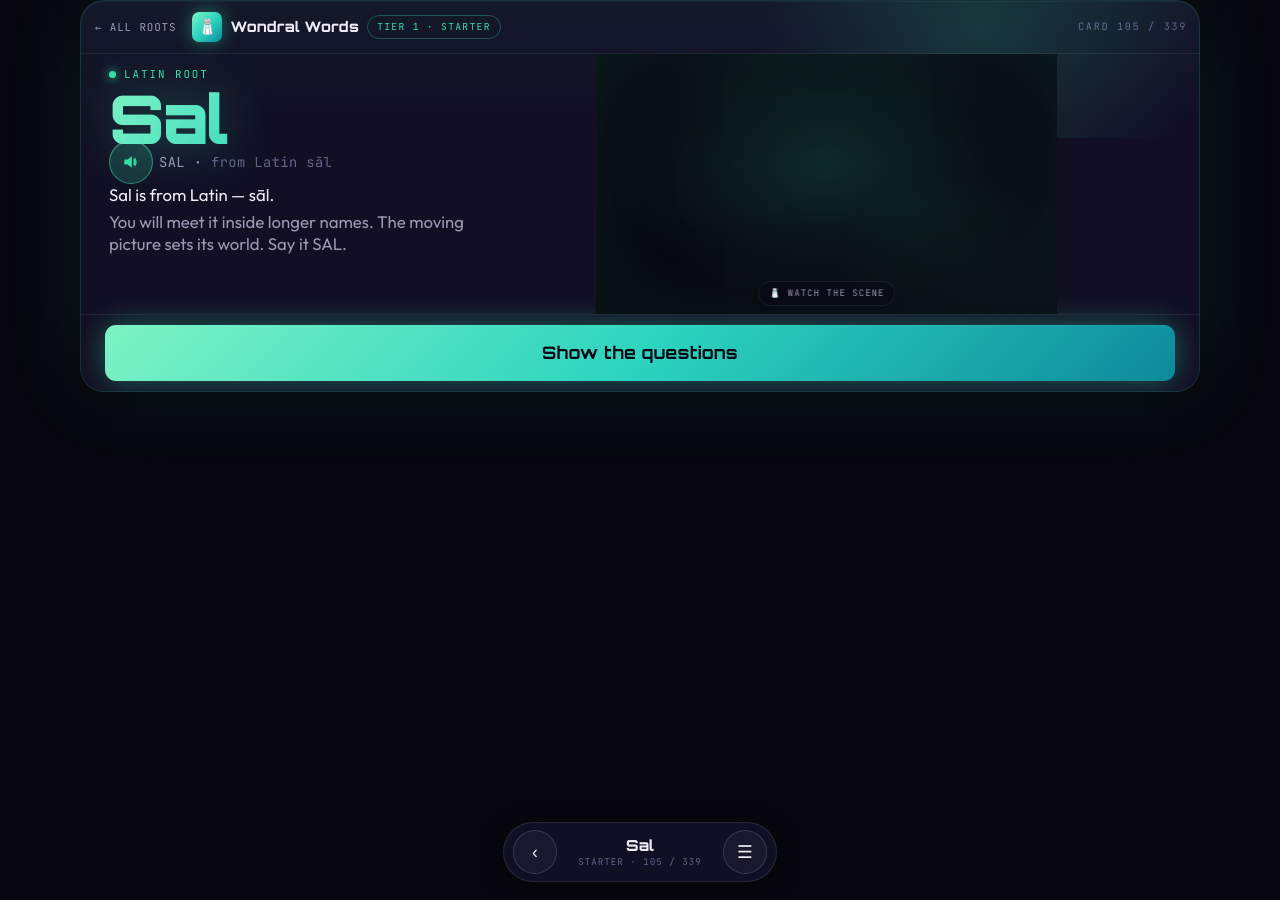
what the kid sees on a new card › reveals the recall question Next already named, without a new deal
Click the button "Show the questions": (640, 353) x1=105 y1=325 x2=1175 y2=381
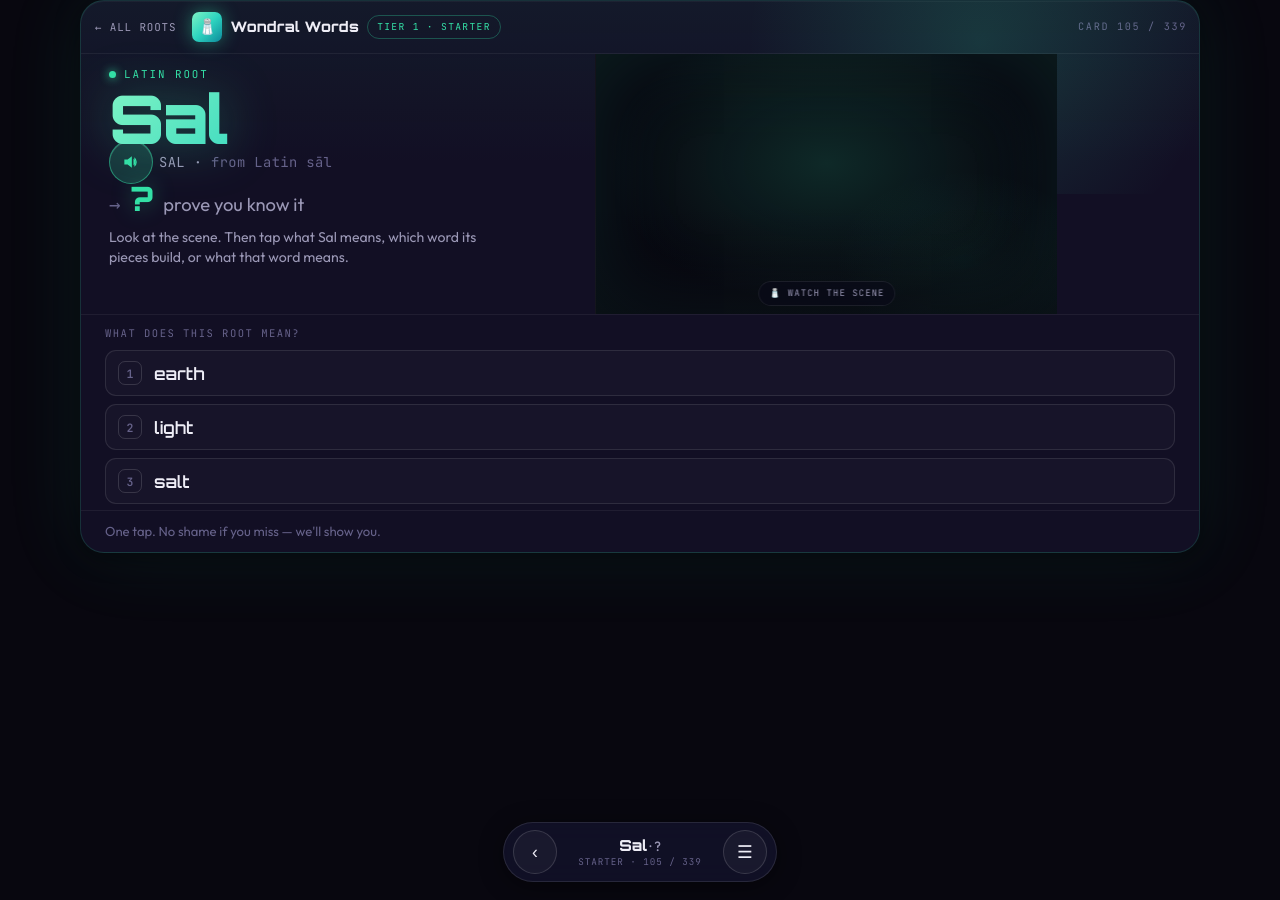
Expected: the text "What does this root mean?" is shown, x1=105 y1=326 x2=300 y2=340
Expected: the text "earth" is shown, x1=105 y1=350 x2=1175 y2=396
Expected: the text "light" is shown, x1=105 y1=404 x2=1175 y2=450
